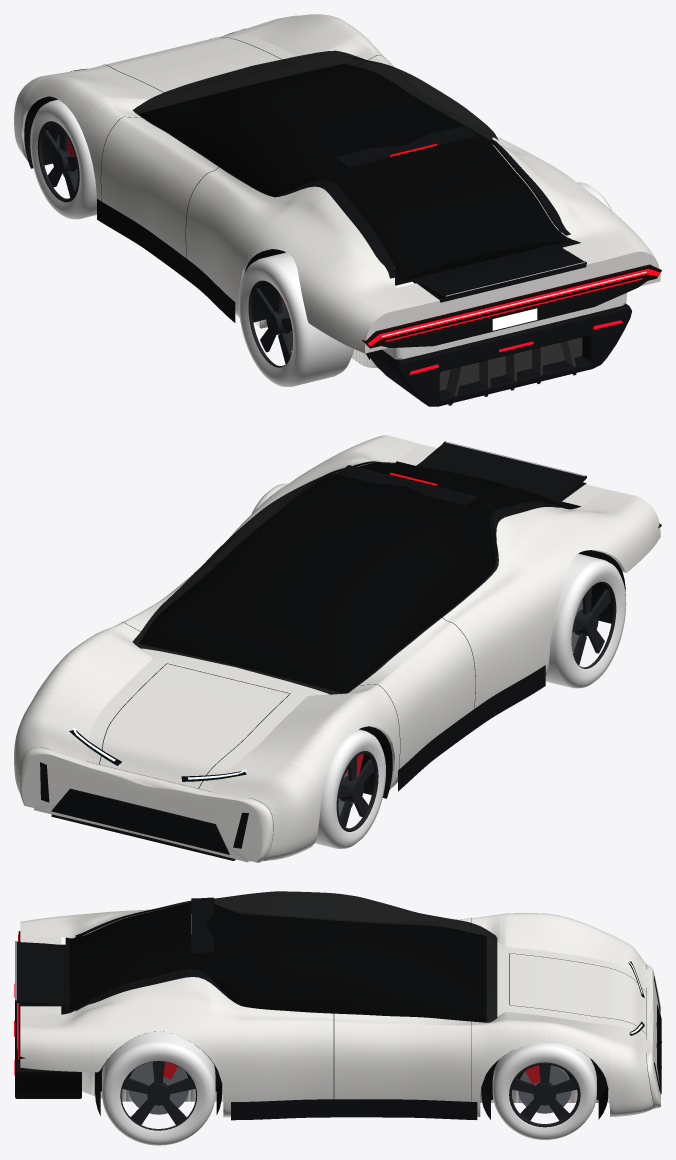
Rendered from xwave-x1-v4.3-step06.glb.
3 views of the same model, one above another, from view 1: azimuth 30°, elevation 25°; view 2: azimuth 150°, elevation 25°; view 3: azimuth 270°, elevation 25° (orthographic). The views are drawn at different scales.
Visible parts, largest first — view 1: Body_Paint, Glass_Canopy, Rear_LowerBumper, Trim_GlossBlack, Tyre_RL, Spoiler, Tyre_FL, Trim_LEDHousing, Diffuser, Trim_SatinBlack, Rear_LED, Rim_FL (+3 smaller); view 2: Body_Paint, Glass_Canopy, Tyre_RL, Spoiler, Tyre_FL, Trim_WheelLiner, Trim_SatinBlack, Trim_GlossBlack, Front_Intake, Rim_FL, Rim_RL, Wheel_Liners (+2 smaller); view 3: Body_Paint, Glass_Canopy, Tyre_RR, Tyre_FR, Trim_SatinBlack, Spoiler, Trim_GlossBlack, Rim_FR, Rim_RR, Rear_LowerBumper, Wheel_Liners, Disc_RR (+2 smaller).
Boxes of the visible parts, box(x1,y1,x2,y2) form: Body_Paint: box(14, 14, 660, 367); Glass_Canopy: box(132, 50, 566, 280); Rear_LowerBumper: box(367, 303, 631, 406); Trim_GlossBlack: box(279, 125, 647, 347); Tyre_RL: box(238, 252, 353, 386); Spoiler: box(415, 245, 586, 298); Tyre_FL: box(30, 99, 96, 219); Trim_LEDHousing: box(361, 264, 661, 348); Diffuser: box(439, 337, 582, 405); Trim_SatinBlack: box(97, 199, 235, 322); Rear_LED: box(368, 268, 660, 346); Rim_FL: box(37, 121, 79, 202); Body_Paint: box(14, 435, 660, 862); Glass_Canopy: box(132, 461, 563, 694); Tyre_RL: box(545, 553, 626, 688); Spoiler: box(417, 441, 586, 502); Tyre_FL: box(314, 729, 385, 848); Trim_WheelLiner: box(56, 792, 224, 851); Trim_SatinBlack: box(398, 665, 545, 791); Trim_GlossBlack: box(331, 461, 586, 541); Front_Intake: box(40, 762, 248, 854); Rim_FL: box(336, 751, 378, 831); Rim_RL: box(571, 581, 616, 668); Wheel_Liners: box(359, 550, 625, 798); Body_Paint: box(20, 908, 660, 1117); Glass_Canopy: box(69, 891, 497, 1022); Tyre_RR: box(102, 1031, 215, 1145); Tyre_FR: box(492, 1043, 596, 1139); Trim_SatinBlack: box(231, 1099, 477, 1120); Spoiler: box(15, 941, 66, 1005); Trim_GlossBlack: box(17, 897, 235, 1056); Rim_FR: box(509, 1062, 580, 1127); Rim_RR: box(120, 1061, 196, 1130); Rear_LowerBumper: box(15, 1003, 81, 1098); Wheel_Liners: box(95, 1031, 608, 1119); Disc_RR: box(128, 1062, 188, 1114).
Bounding box in the file's own units: 2.13 × 1.18 × 4.22.
